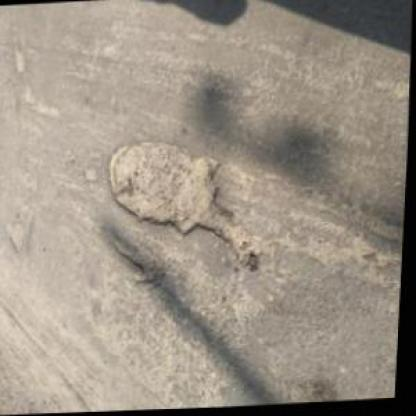pothole: (101, 130, 265, 279), (110, 233, 167, 287), (21, 79, 64, 121), (6, 218, 29, 254), (11, 36, 25, 72), (83, 164, 99, 184)
